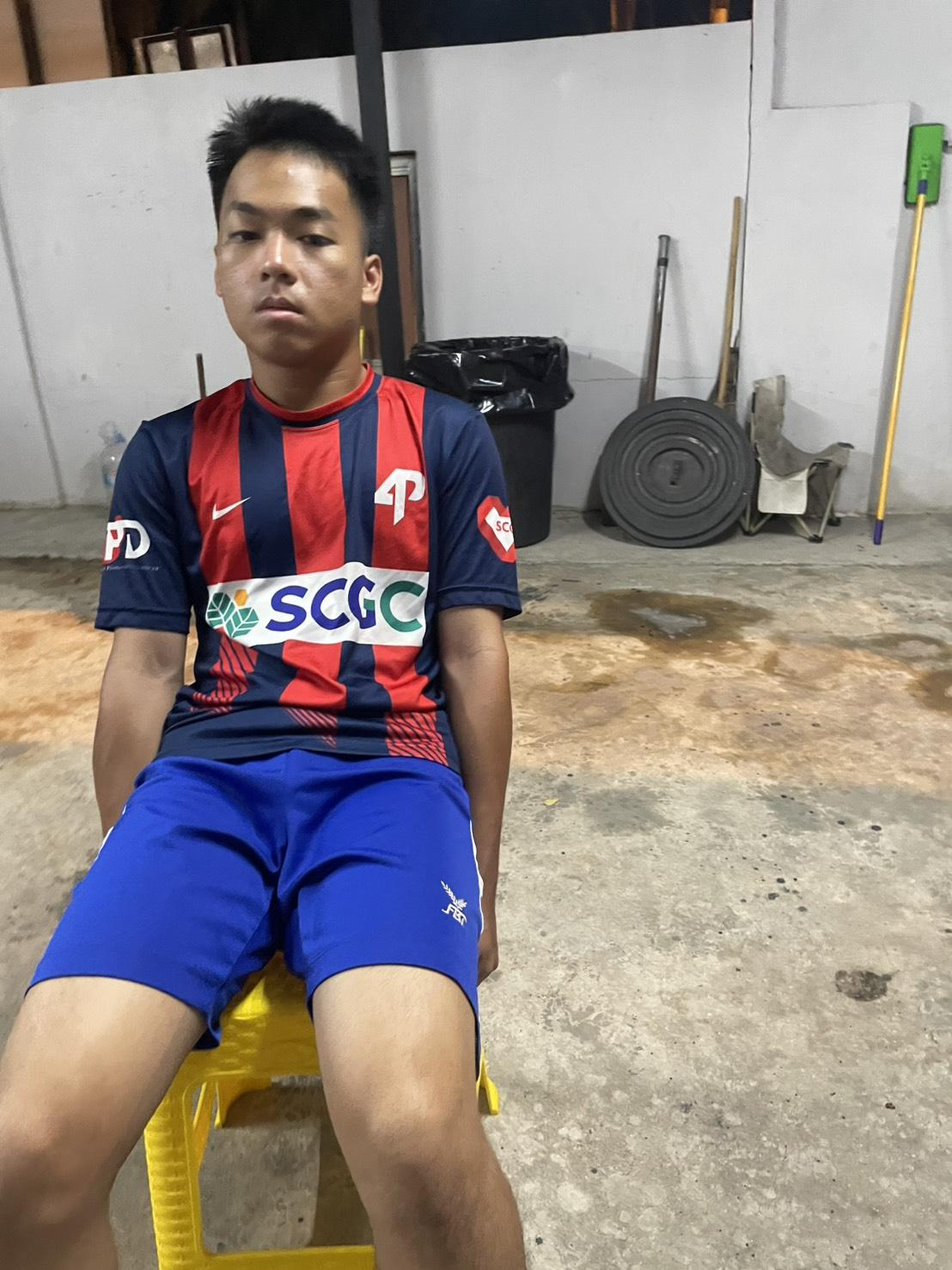BadPosture: (0, 97, 526, 1269), (96, 98, 519, 768)
